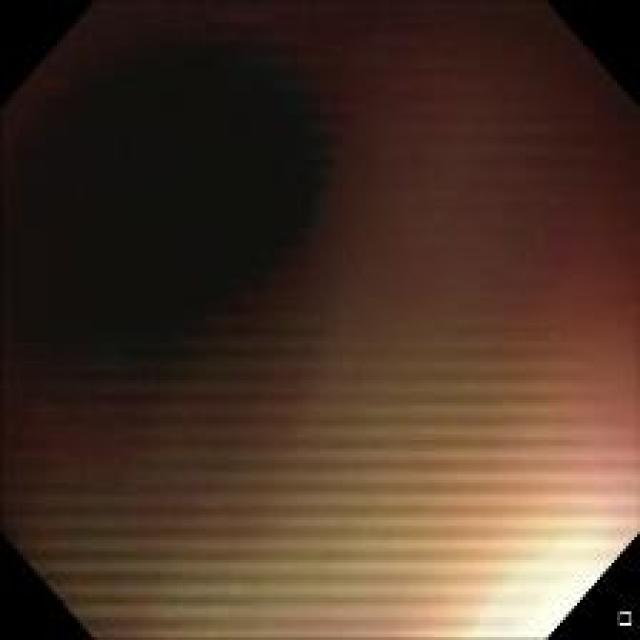blur: (4, 21, 634, 635)
contrast: (42, 38, 341, 401)
saturation: (476, 536, 624, 632)
